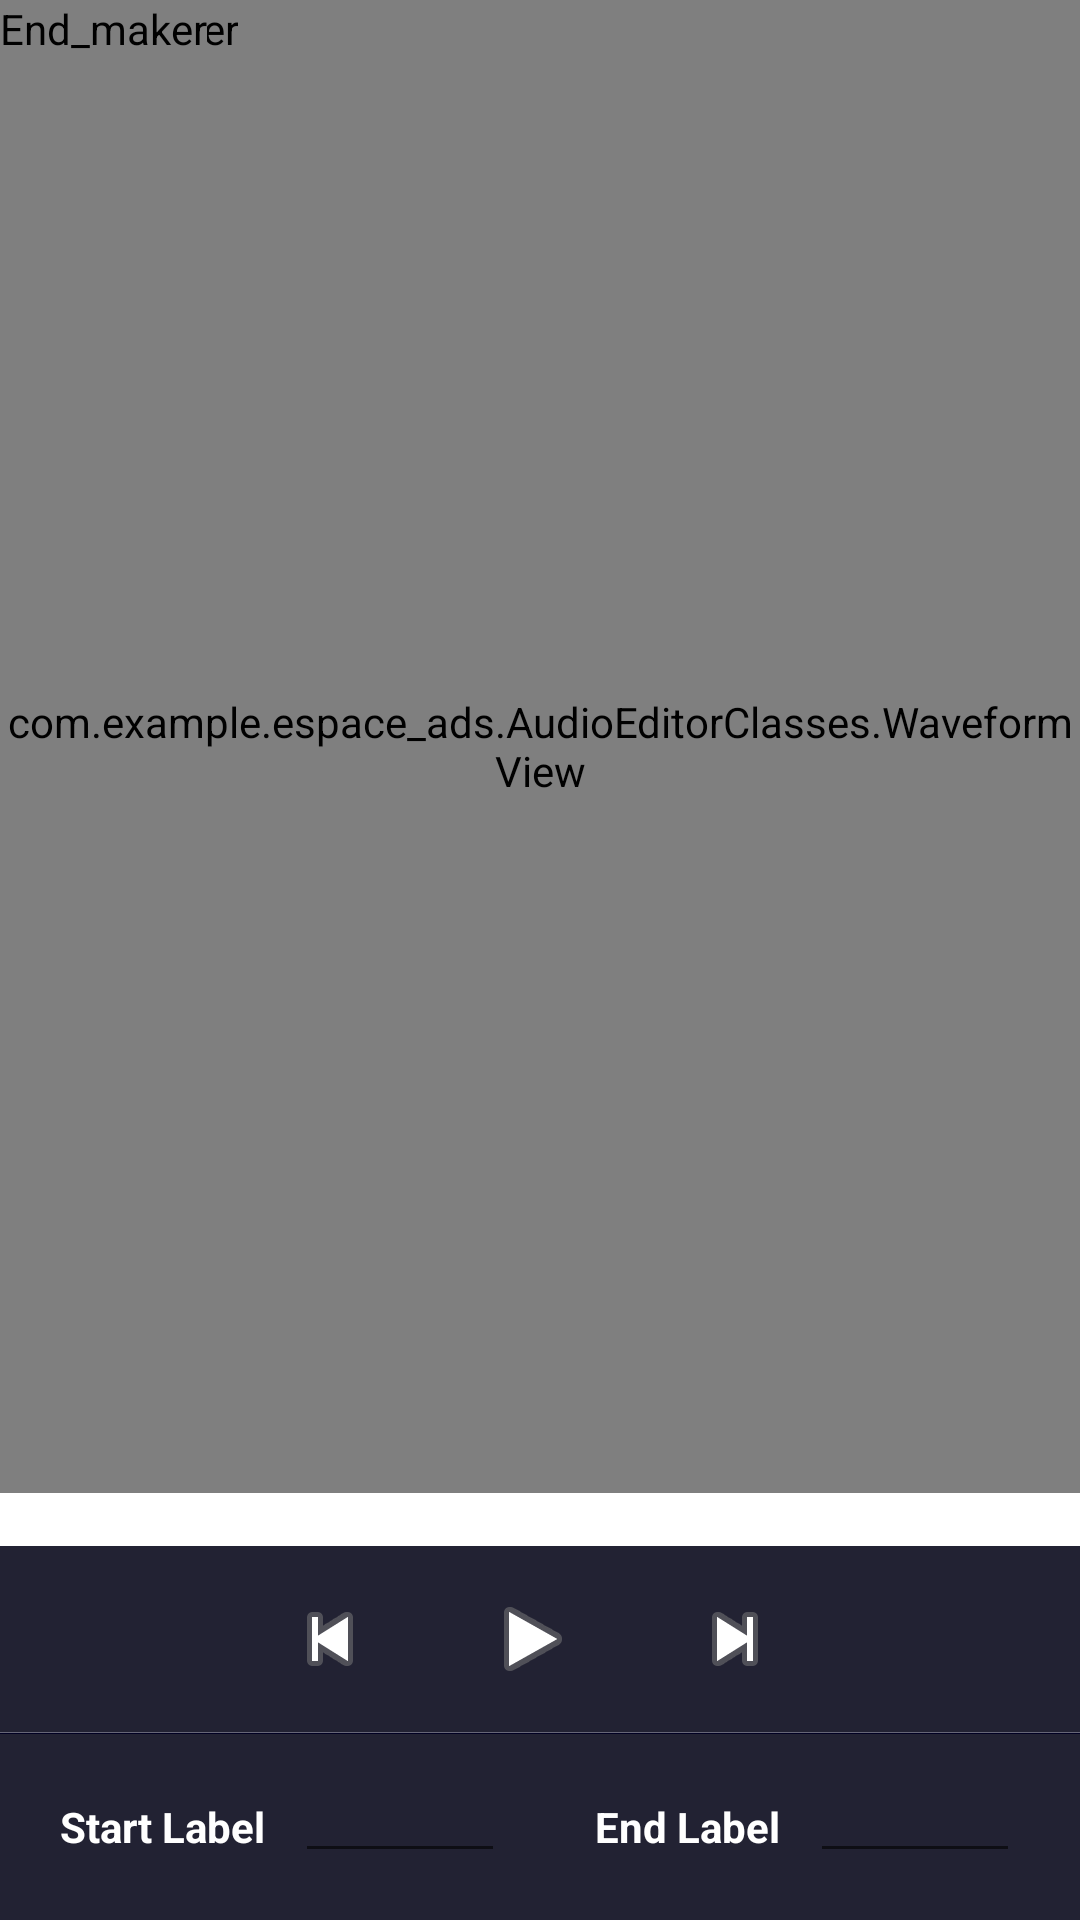

Where to tap for icons on this 1080x1920 app screen, as [x,y]:
ffwd: [735,1639]
Play: [533,1639]
Rewind: [330,1639]
